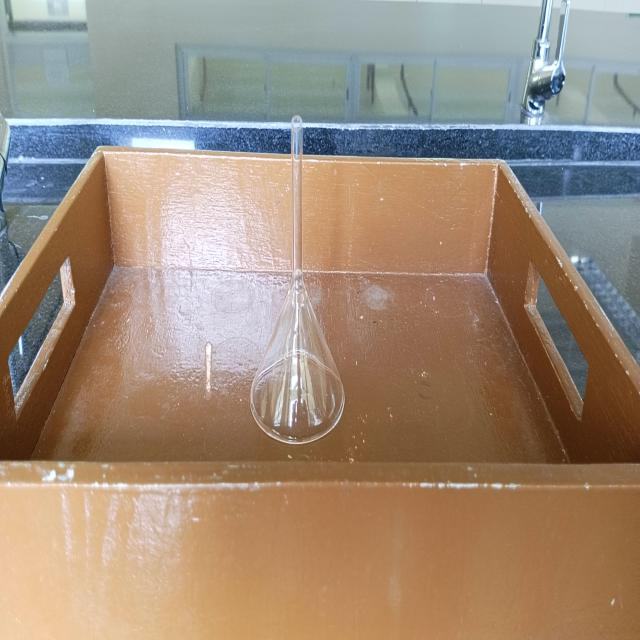funnel: (240, 112, 357, 448)
